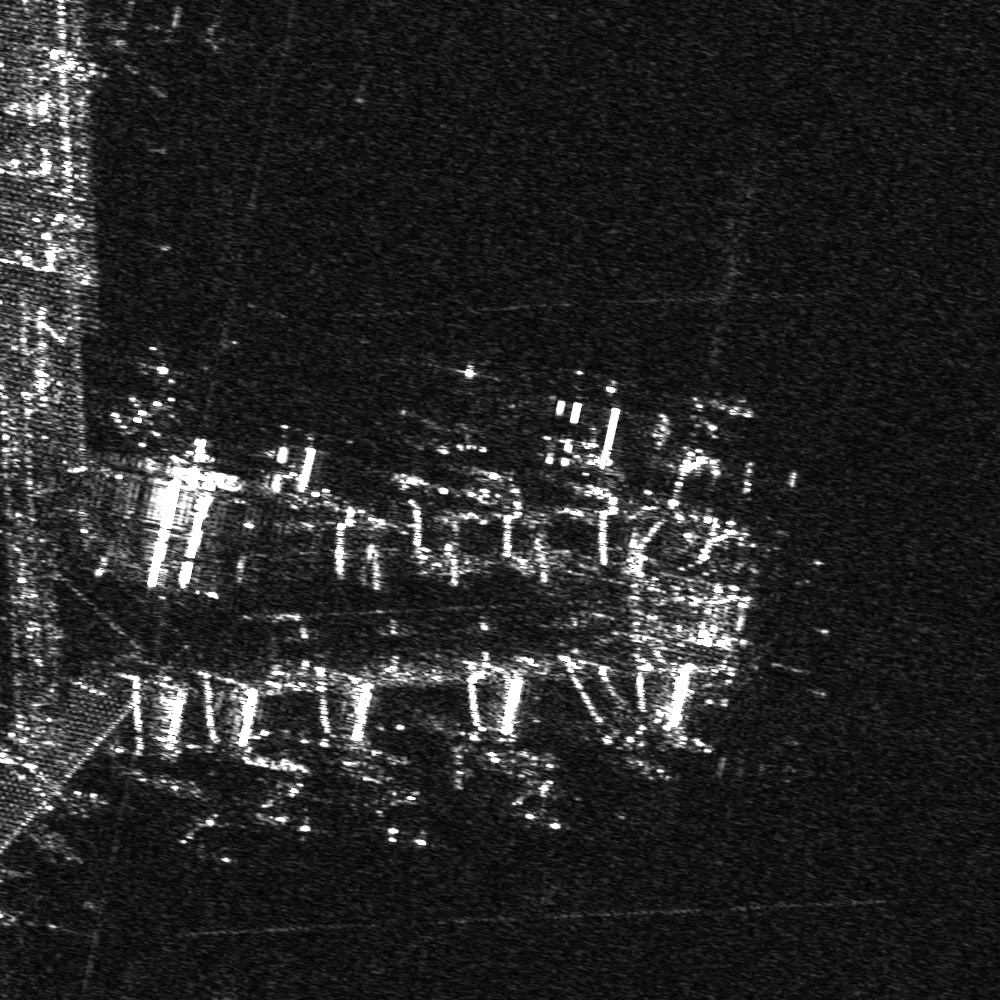A220: (257, 762, 331, 834)
Boeing737: (179, 791, 245, 868)
Boeing787: (365, 755, 429, 845)
other: (509, 757, 581, 831)
